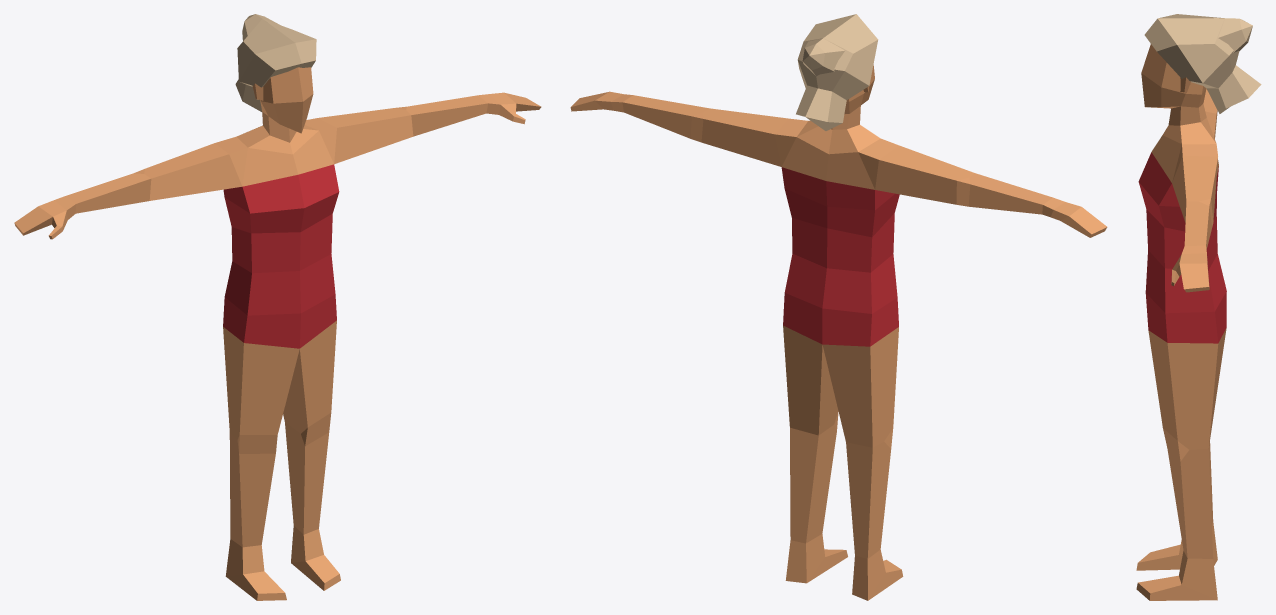
The model's file is woman-swimming-guard_Rig.fbx.
The picture shows the model from 3 angles, left to right: view 1: azimuth 30°, elevation 25°; view 2: azimuth 150°, elevation 25°; view 3: azimuth 270°, elevation 25°; orthographic projection. The views are drawn at different scales.
Parts seen in each view (by area): view 1: woman-swimming-guard_Rig; view 2: woman-swimming-guard_Rig; view 3: woman-swimming-guard_Rig.
Boxes of the visible parts, box(x1,y1,x2,y2) form: woman-swimming-guard_Rig: box(14, 14, 541, 600); woman-swimming-guard_Rig: box(570, 14, 1107, 600); woman-swimming-guard_Rig: box(1136, 14, 1261, 600).
Bounding box in the file's own units: 1.83 × 1.84 × 0.3708.
